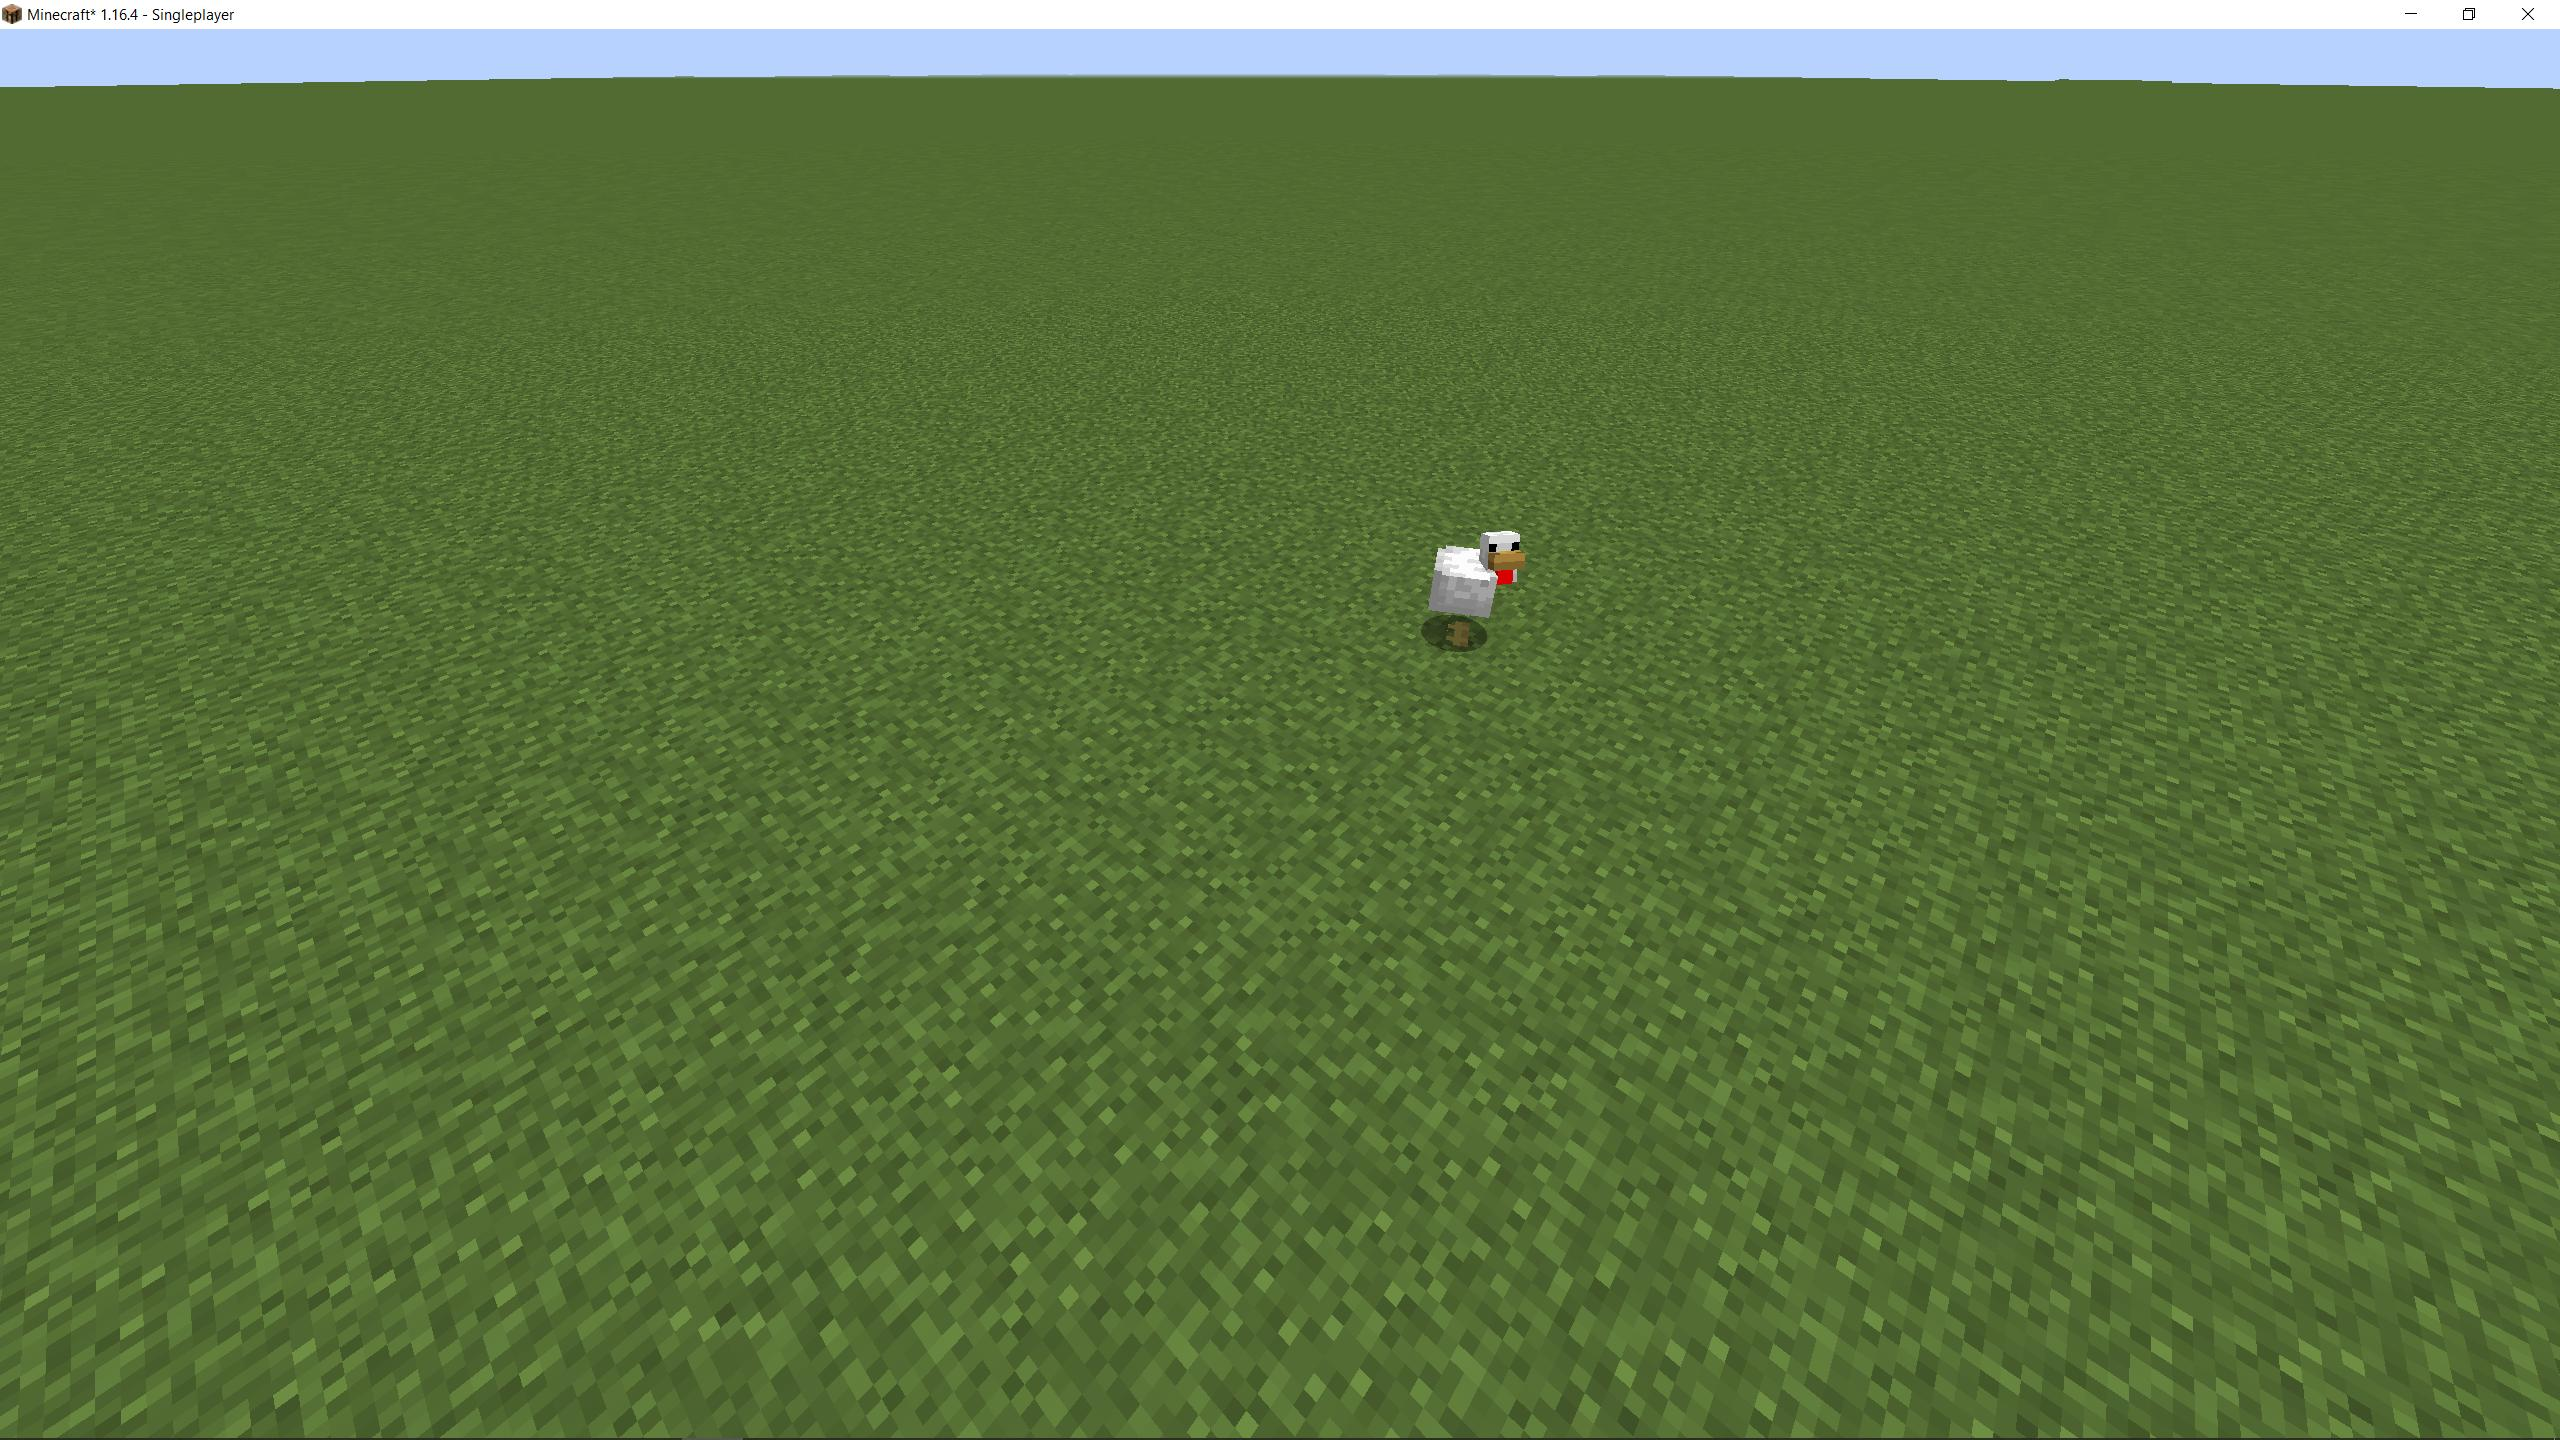chicken: (1421, 513, 1530, 665)
